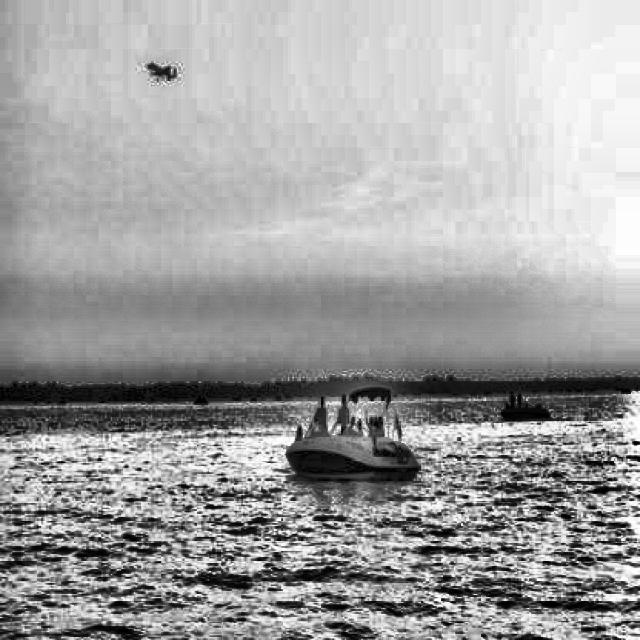A10: (146, 62, 177, 82)
